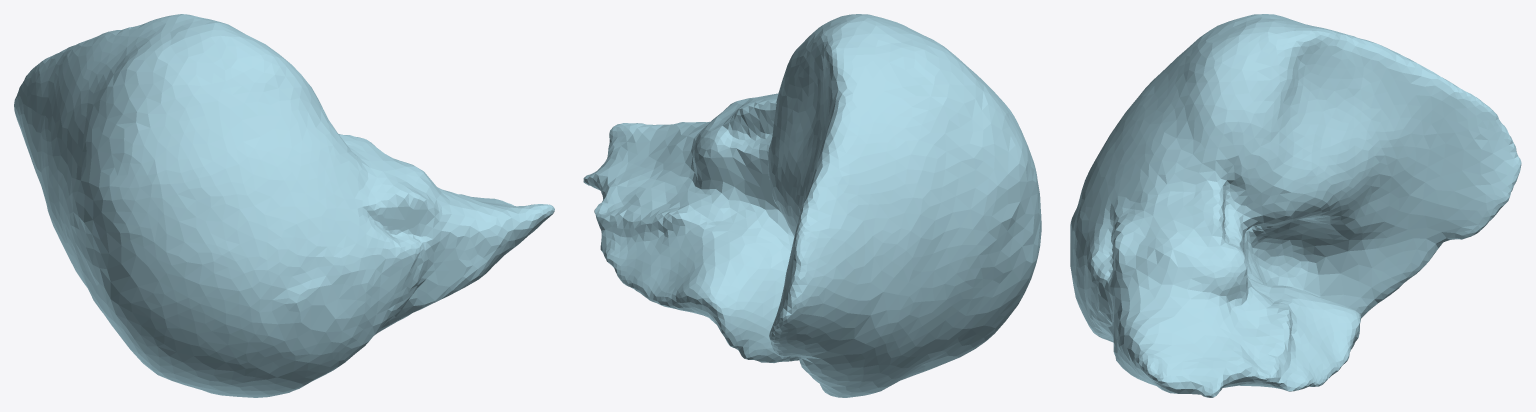
File: liver.obj
The picture shows the model from 3 angles, left to right: view 1: azimuth 30°, elevation 25°; view 2: azimuth 150°, elevation 25°; view 3: azimuth 270°, elevation 25°; orthographic projection. The views are drawn at different scales.
Parts seen in each view (by area): view 1: grp1; view 2: grp1; view 3: grp1.
Part boxes in pixels (x1=…): grp1: x1=14, y1=14, x2=554, y2=397; grp1: x1=583, y1=14, x2=1041, y2=397; grp1: x1=1070, y1=14, x2=1521, y2=397.
Bounding box in the file's own units: 196 × 154 × 183.
